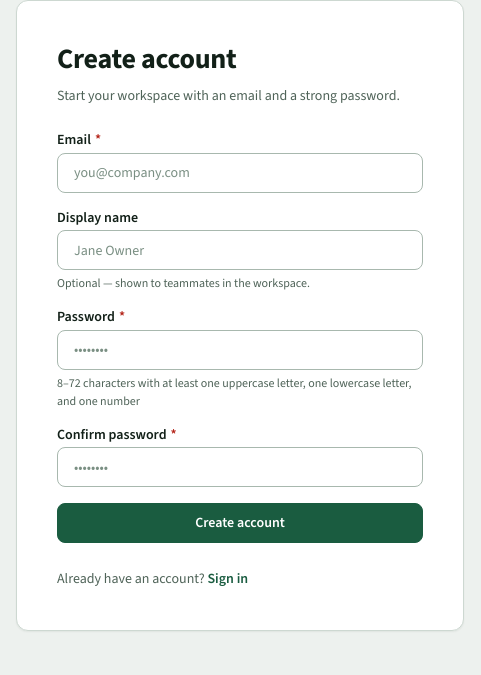
Test: RegisterForm › shows validation errors for empty required fields
The image size is (481, 675).
Click the button "Create account".
click(240, 523)  # box [57,503,423,543]
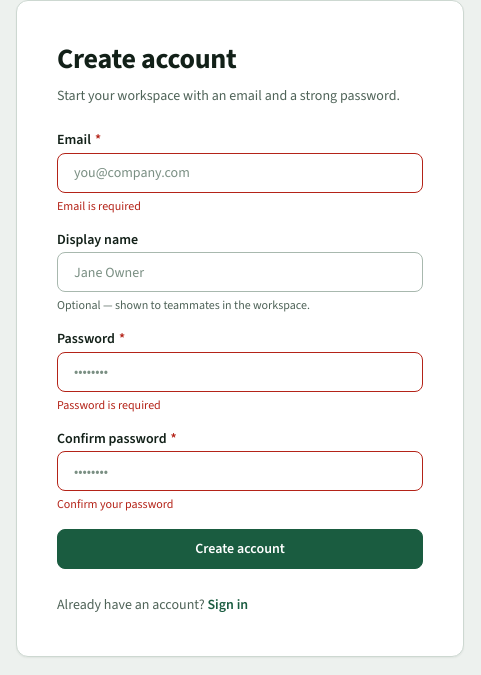
Expected: the text "Email is required" is shown, [57,198,141,214]
Expected: the text "Confirm your password" is shown, [57,496,173,512]
